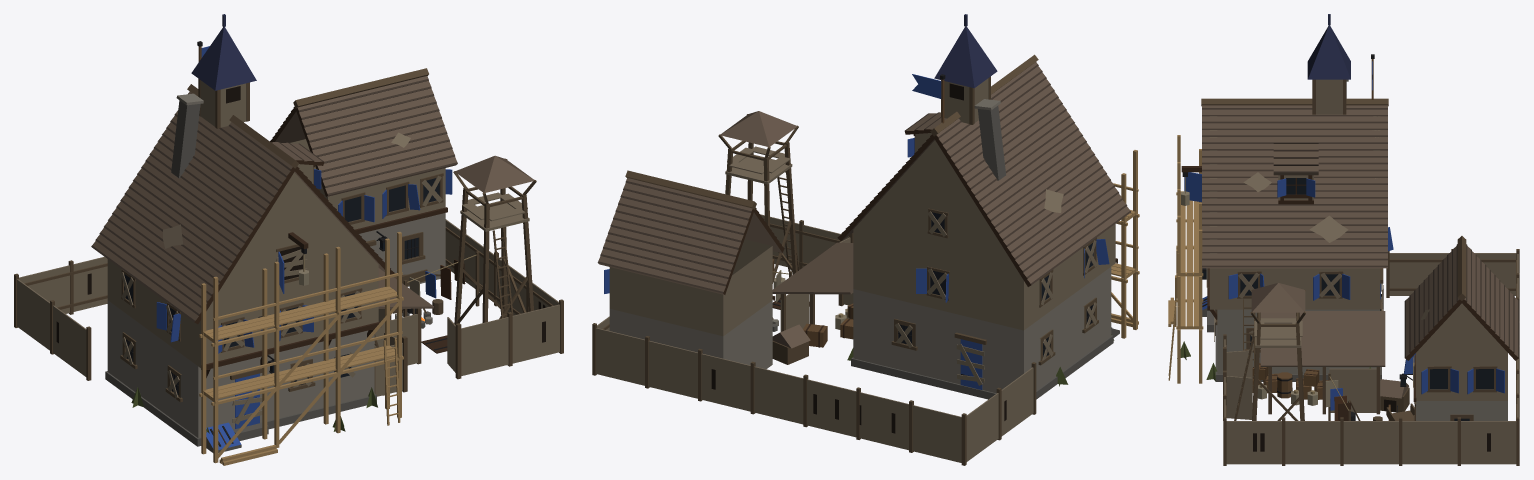
Rendered from dieb.glb.
The picture shows the model from 3 angles, left to right: view 1: azimuth 30°, elevation 25°; view 2: azimuth 150°, elevation 25°; view 3: azimuth 270°, elevation 25°; orthographic projection. The views are drawn at different scales.
Visible parts, largest first — view 1: Haus, Stufe3, Stufe1, Geruest, Stufe2, Leerstand; view 2: Haus, Stufe3, Stufe1, Stufe2, Geruest, Leerstand, Fahne; view 3: Haus, Stufe3, Stufe1, Stufe2, Geruest, Leerstand.
Part boxes in pixels (<box>): Haus: <box>91,84,395,452</box>; Stufe3: <box>191,14,536,324</box>; Stufe1: <box>14,219,563,396</box>; Geruest: <box>199,232,403,465</box>; Stufe2: <box>271,142,479,365</box>; Leerstand: <box>122,249,377,433</box>; Haus: <box>837,54,1130,399</box>; Stufe3: <box>597,14,997,369</box>; Stufe1: <box>592,214,1036,465</box>; Stufe2: <box>772,112,946,347</box>; Geruest: <box>1111,150,1139,338</box>; Leerstand: <box>847,211,1114,386</box>; Fahne: <box>912,74,945,123</box>; Haus: <box>1181,79,1393,381</box>; Stufe3: <box>1234,14,1519,420</box>; Stufe1: <box>1223,249,1519,465</box>; Stufe2: <box>1243,137,1385,420</box>; Geruest: <box>1168,135,1203,383</box>; Leerstand: <box>1177,273,1383,381</box>.
Bounding box in the file's own units: 15.73 × 14.21 × 13.79.
